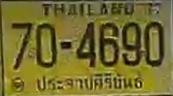0: (35, 22, 56, 67), (143, 21, 164, 66)
4: (76, 21, 96, 66)
6: (98, 22, 118, 66)
7: (10, 22, 32, 68)
9: (121, 21, 141, 65)
PKN: (35, 73, 147, 93)
